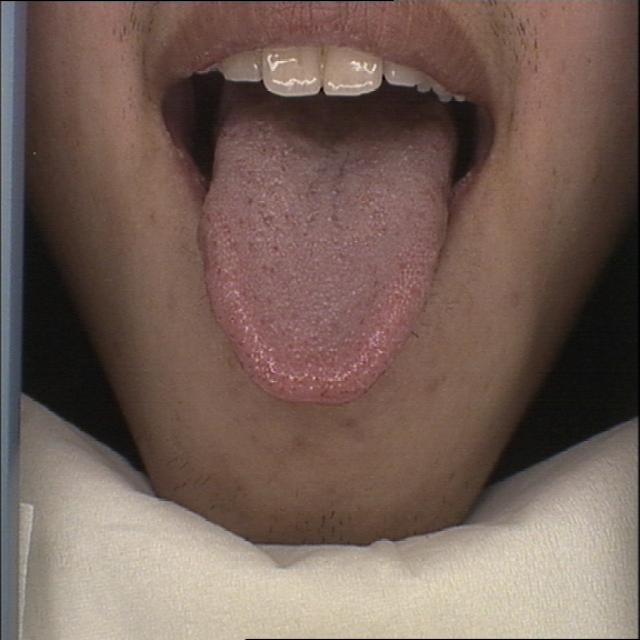tongue: (184, 91, 459, 410)
